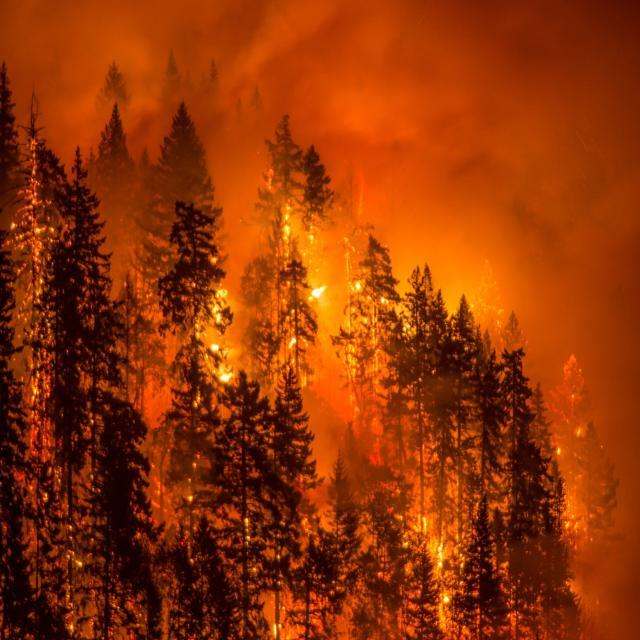Fire: (15, 150, 86, 628), (168, 227, 239, 449), (330, 218, 404, 414), (253, 198, 318, 407), (389, 496, 474, 627)
Smoke: (266, 21, 634, 480)
